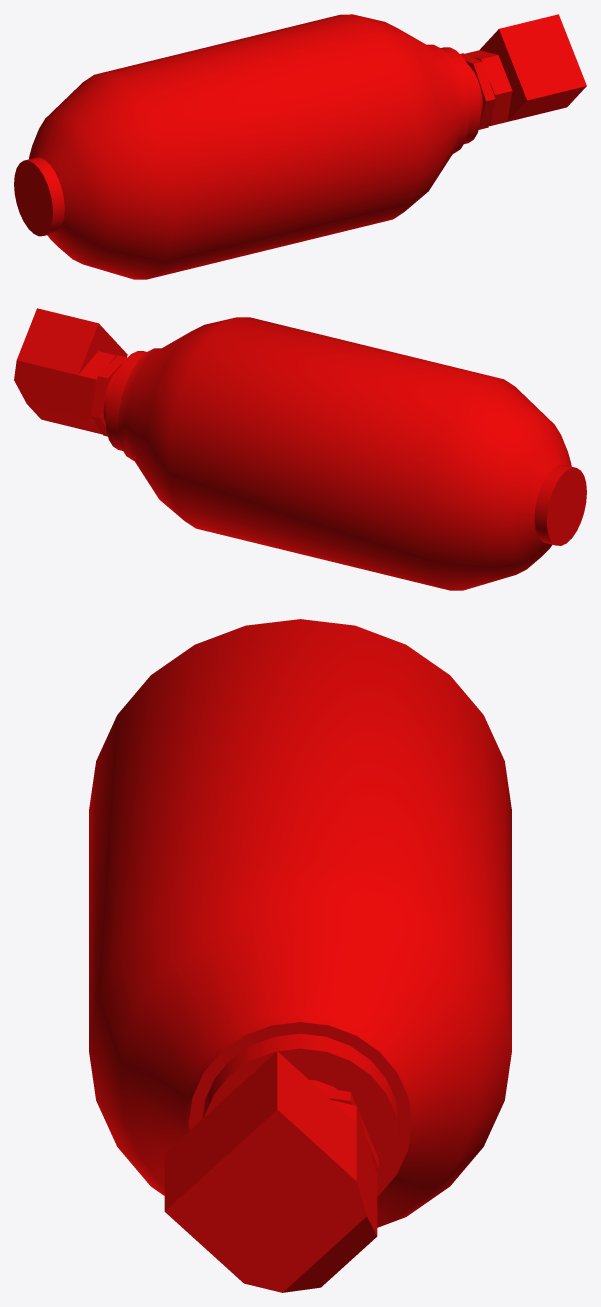
Rendered from rafale_highlight_07_c2.fbx.
The picture shows the model from 3 angles, top to bottom: view 1: azimuth 30°, elevation 25°; view 2: azimuth 150°, elevation 25°; view 3: azimuth 270°, elevation 25°; orthographic projection. The views are drawn at different scales.
Parts seen in each view (by area): view 1: rafale_highlight_07_c2; view 2: rafale_highlight_07_c2; view 3: rafale_highlight_07_c2.
Part boxes in pixels (x1,y1,x2,y2): rafale_highlight_07_c2: (14, 14, 586, 279); rafale_highlight_07_c2: (14, 308, 586, 590); rafale_highlight_07_c2: (89, 619, 511, 1292).
Size of the model in its own units: 13.85 by 4.88 by 4.88.
